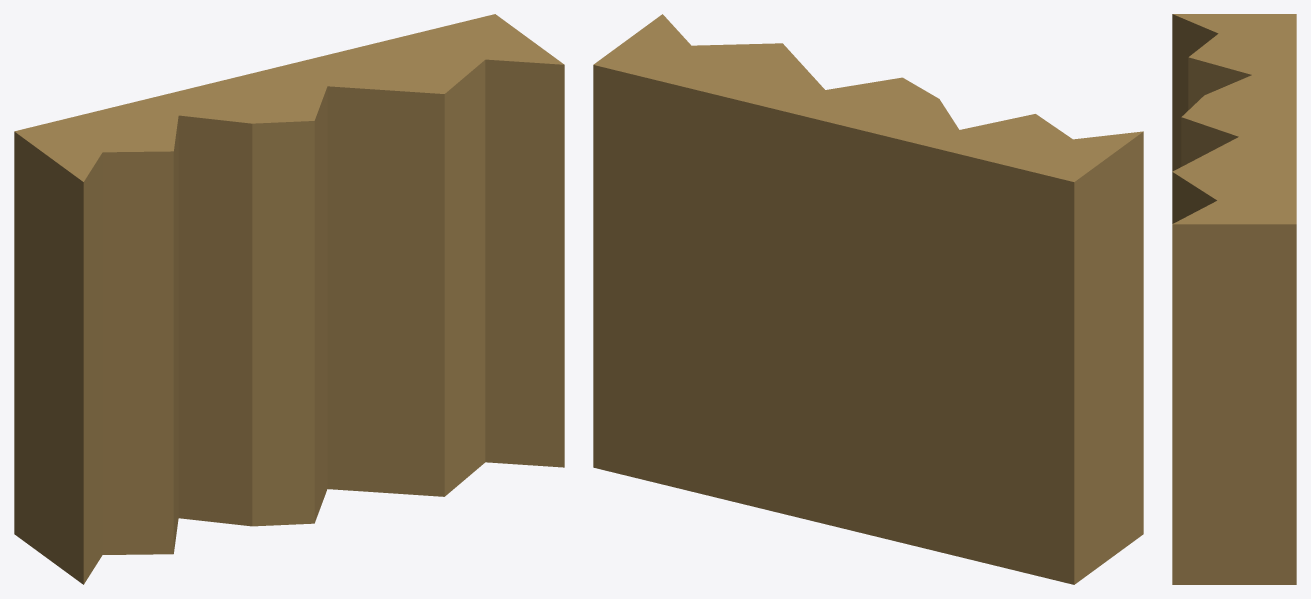
Rendered from Terrain_Modular_Tiles_Dirt_Cliff_Side_02.fbx.
3 views of the same model, side by side, from view 1: azimuth 30°, elevation 25°; view 2: azimuth 150°, elevation 25°; view 3: azimuth 270°, elevation 25° (orthographic). The views are drawn at different scales.
Parts seen in each view (by area): view 1: Terrain_Modular_Tiles_Dirt_Cliff_Side_02; view 2: Terrain_Modular_Tiles_Dirt_Cliff_Side_02; view 3: Terrain_Modular_Tiles_Dirt_Cliff_Side_02.
Part boxes in pixels (x1=…): Terrain_Modular_Tiles_Dirt_Cliff_Side_02: x1=14, y1=14, x2=564, y2=584; Terrain_Modular_Tiles_Dirt_Cliff_Side_02: x1=593, y1=14, x2=1143, y2=584; Terrain_Modular_Tiles_Dirt_Cliff_Side_02: x1=1172, y1=14, x2=1296, y2=584.
Bounding box in the file's own units: 118 × 94.49 × 29.53.
